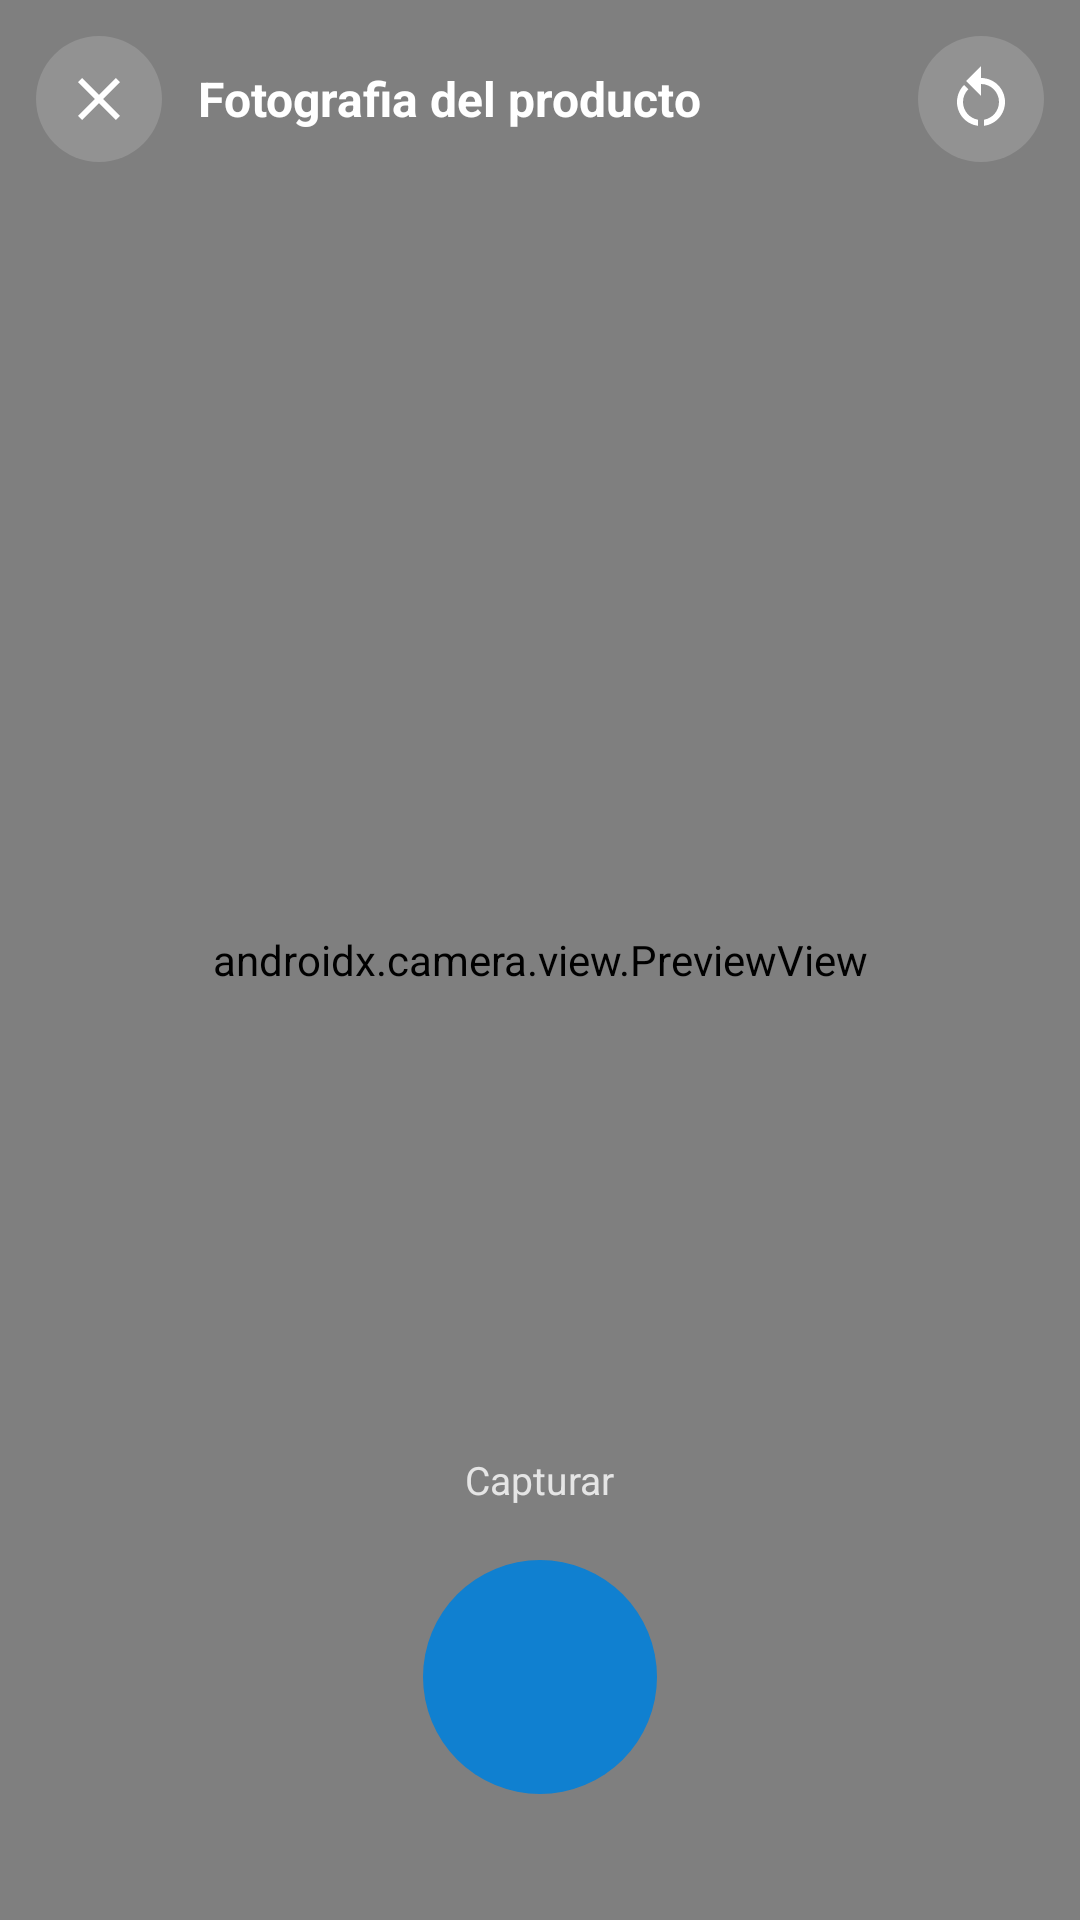

Locate icon controls on the screen. Image size 1080x1920, boxes as (x1, y1, x2, y2).
Cambiar camara: (918, 36, 1044, 162)
Cancelar: (36, 36, 162, 162)
